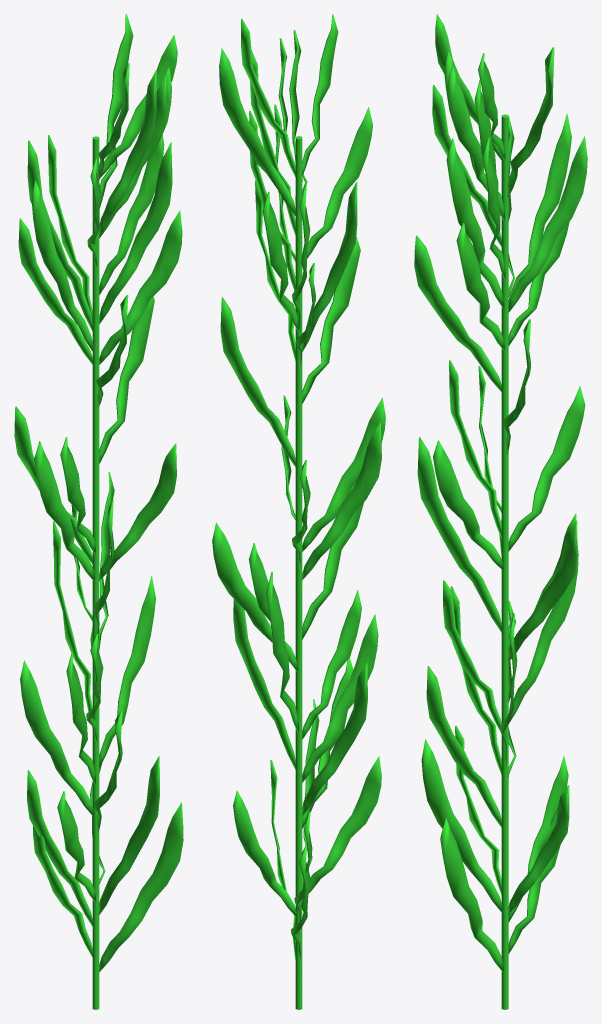
Rendered from kelp_4.fbx.
3 views of the same model, side by side, from view 1: azimuth 30°, elevation 25°; view 2: azimuth 150°, elevation 25°; view 3: azimuth 270°, elevation 25° (orthographic). The views are drawn at different scales.
Visible parts, largest first — view 1: Stem; view 2: Stem; view 3: Stem.
Boxes of the visible parts, bbox=[...] form: Stem: bbox=[14, 14, 183, 1009]; Stem: bbox=[212, 14, 385, 1009]; Stem: bbox=[414, 14, 587, 1009].
Bounding box in the file's own units: 212 × 1392 × 220.
